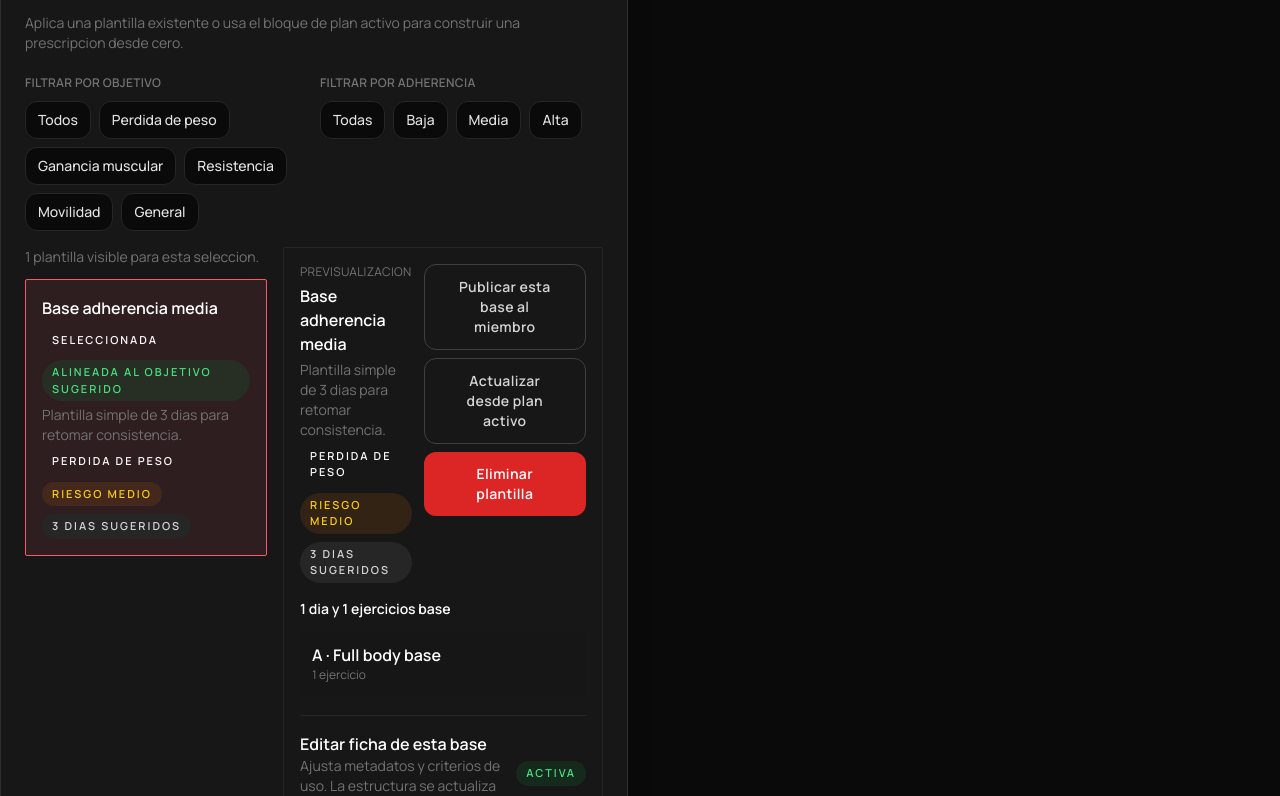
TrainerProgramPage › confirms before refreshing a training template from the active plan
Later steps or results of the test are not shown.
(page scrolled)
Click the button with test id "refresh-training-template-button" at point(505, 400), box [424,358,586,444]
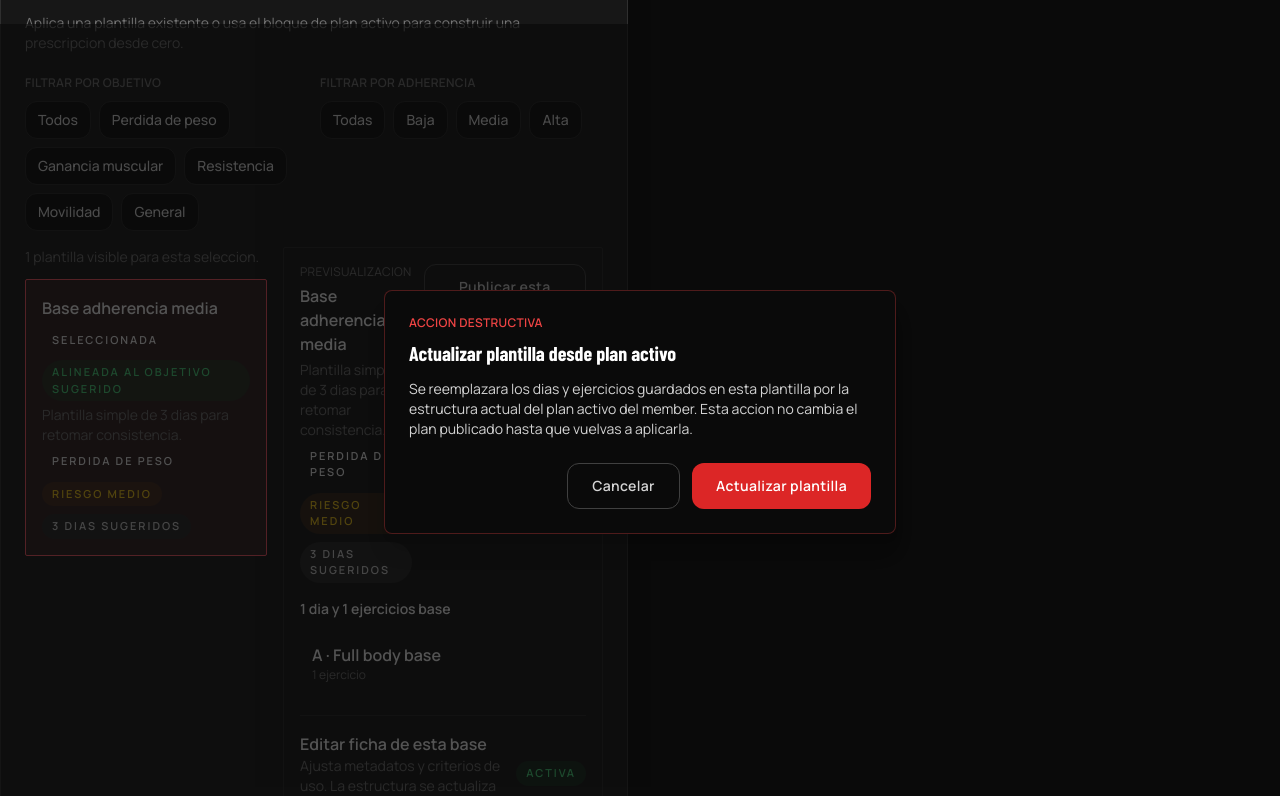
Check: the text "reemplazara los dias y ejercicios guardados" is shown, box [409,379,857,438]
